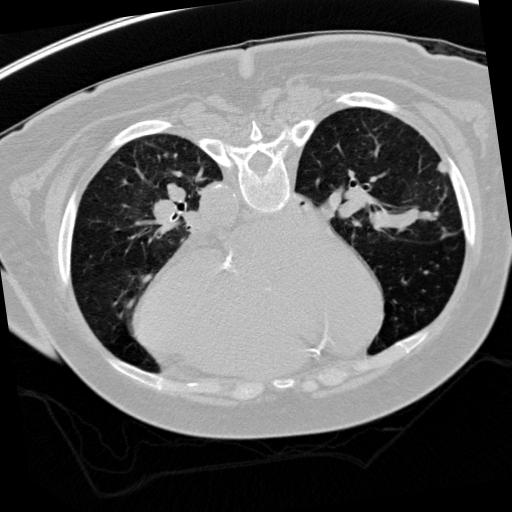nodule: (436, 160, 453, 177)
